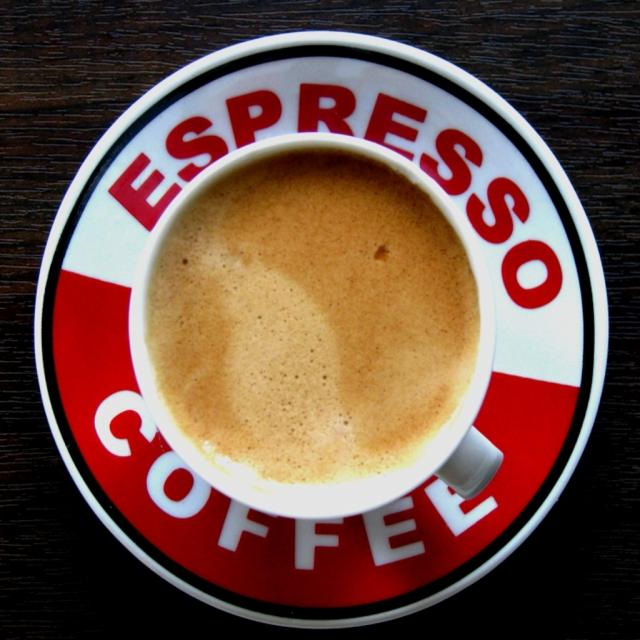Coffee: (142, 154, 478, 483)
